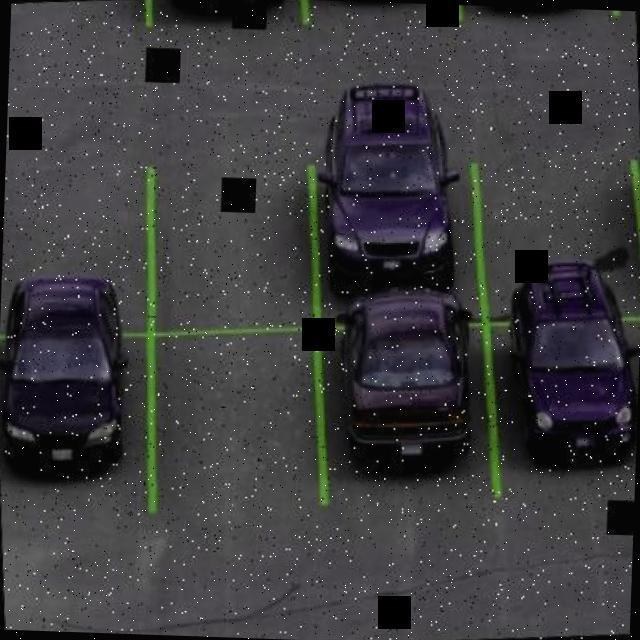car: (318, 72, 462, 289), (510, 264, 640, 470), (2, 281, 138, 477), (336, 288, 476, 478), (480, 6, 595, 12)
free: (153, 323, 327, 536), (166, 146, 318, 326), (484, 136, 640, 264), (2, 163, 134, 283)
